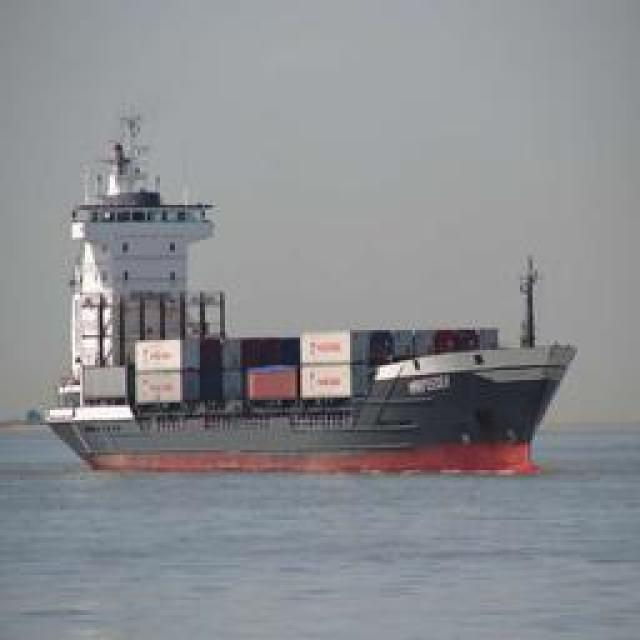ship2: (42, 116, 578, 479)
